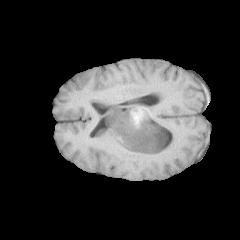glioma: (104, 104, 168, 154)
